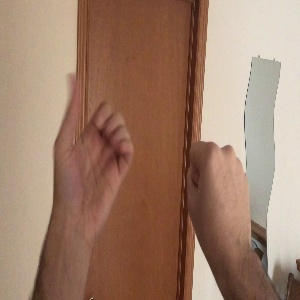hand: (55, 73, 134, 225), (185, 140, 249, 248)
